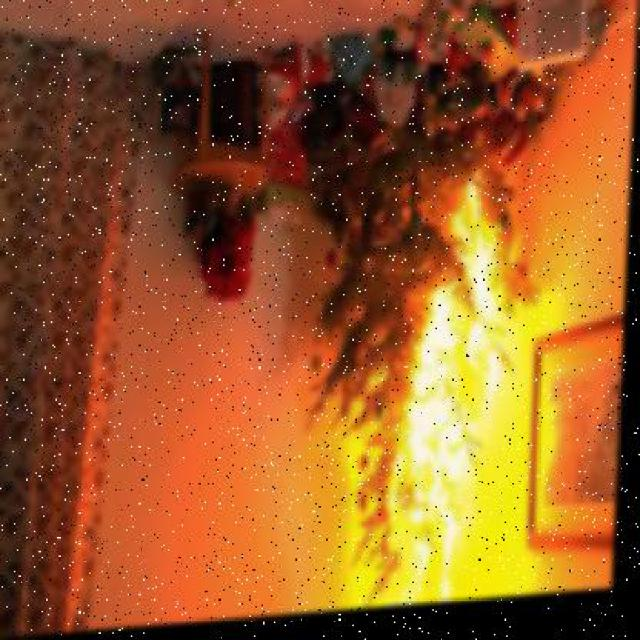fire: (320, 152, 540, 618)
